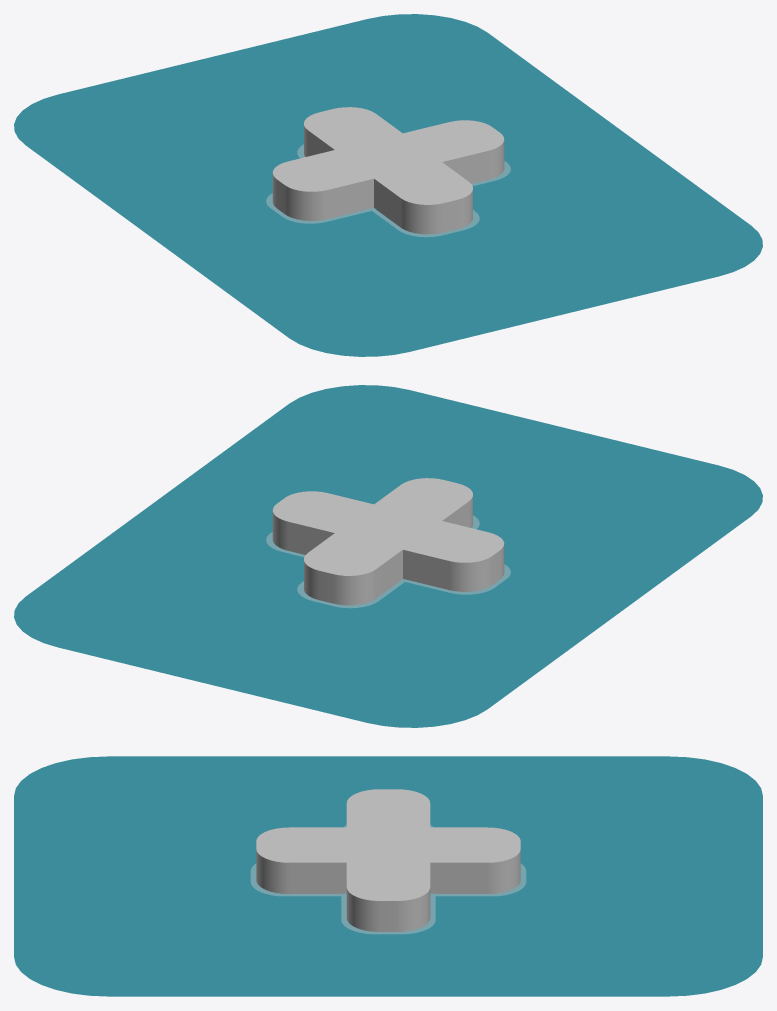
The model's file is level4_env.fbx.
The picture shows the model from 3 angles, top to bottom: view 1: azimuth 30°, elevation 25°; view 2: azimuth 150°, elevation 25°; view 3: azimuth 270°, elevation 25°; orthographic projection. The views are drawn at different scales.
Visible parts, largest first — view 1: level4_env; view 2: level4_env; view 3: level4_env.
Boxes of the visible parts, <box> form: level4_env: <box>14,14,762,356</box>; level4_env: <box>14,385,762,727</box>; level4_env: <box>14,756,762,996</box>.
Size of the model in its own units: 52.06 by 3.46 by 68.65.
